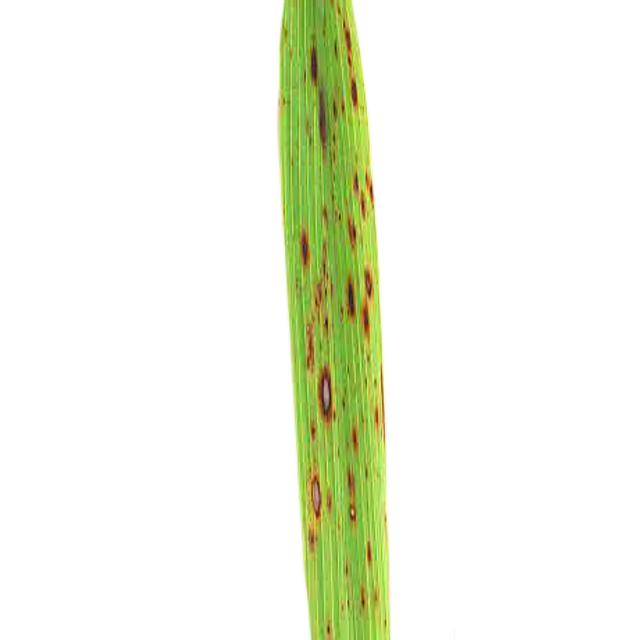Brown spot: (232, 0, 458, 640)
